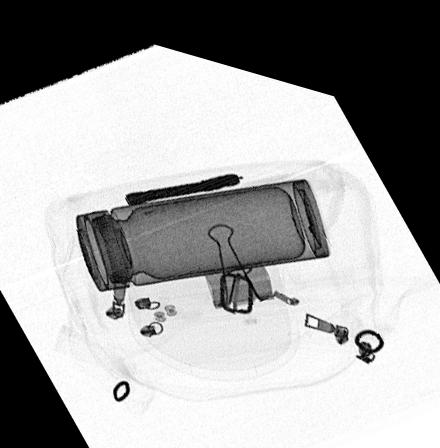Gun: (121, 159, 240, 199)
